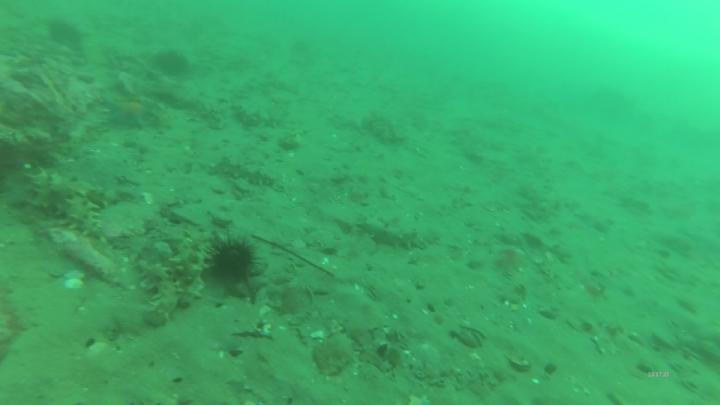echinus: (199, 227, 272, 292), (155, 46, 194, 80), (51, 19, 83, 50)
holothurian: (27, 166, 119, 211), (139, 257, 182, 331), (176, 229, 213, 308), (355, 220, 427, 252), (216, 156, 280, 191), (67, 191, 109, 244)
starfish: (103, 92, 151, 132)
